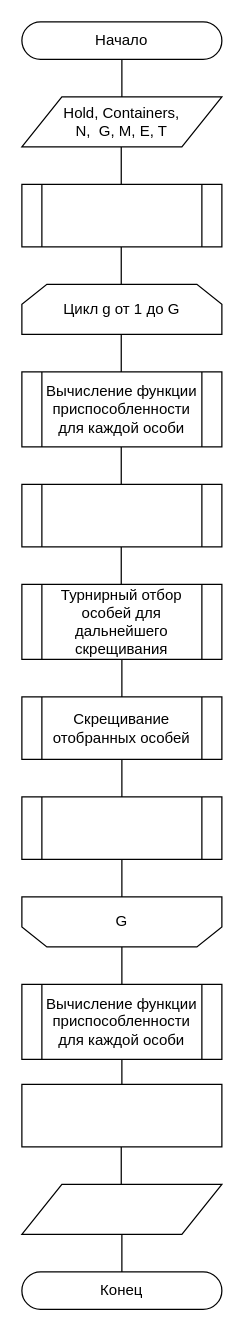
The diagram is 244 pixels wide and 1331 high, and some of its shapes have lost their labels. The box of each missing label's shape, as (x1, y1, x2, y2) in pixels:
Выбор самой приспособленной особи: (21, 1083, 222, 1147)
Генерация начальной популяции из N особей: (21, 183, 222, 247)
Мутация особей с вероятностью M: (21, 796, 222, 859)
Наилучшая особь: (21, 1183, 222, 1234)
Отбор E / 100 * N элитных особей: (21, 483, 222, 547)
